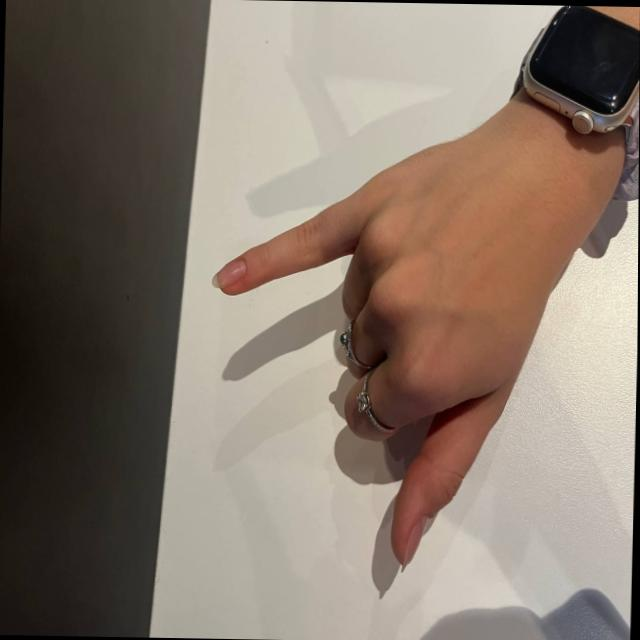u: (200, 43, 549, 606)
